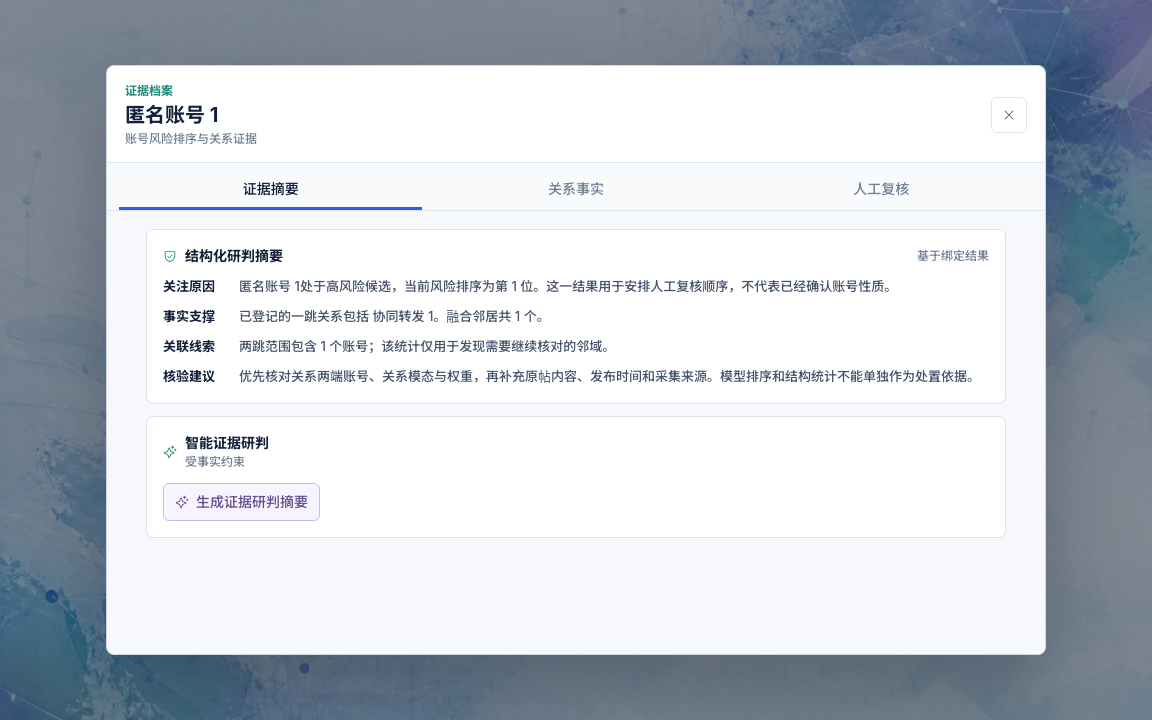
Scenario: EvidenceDossier › keeps deterministic evidence usable when generation fails
Click the button "生成证据研判摘要" at (242,502), box left=163, top=483, right=320, bottom=521
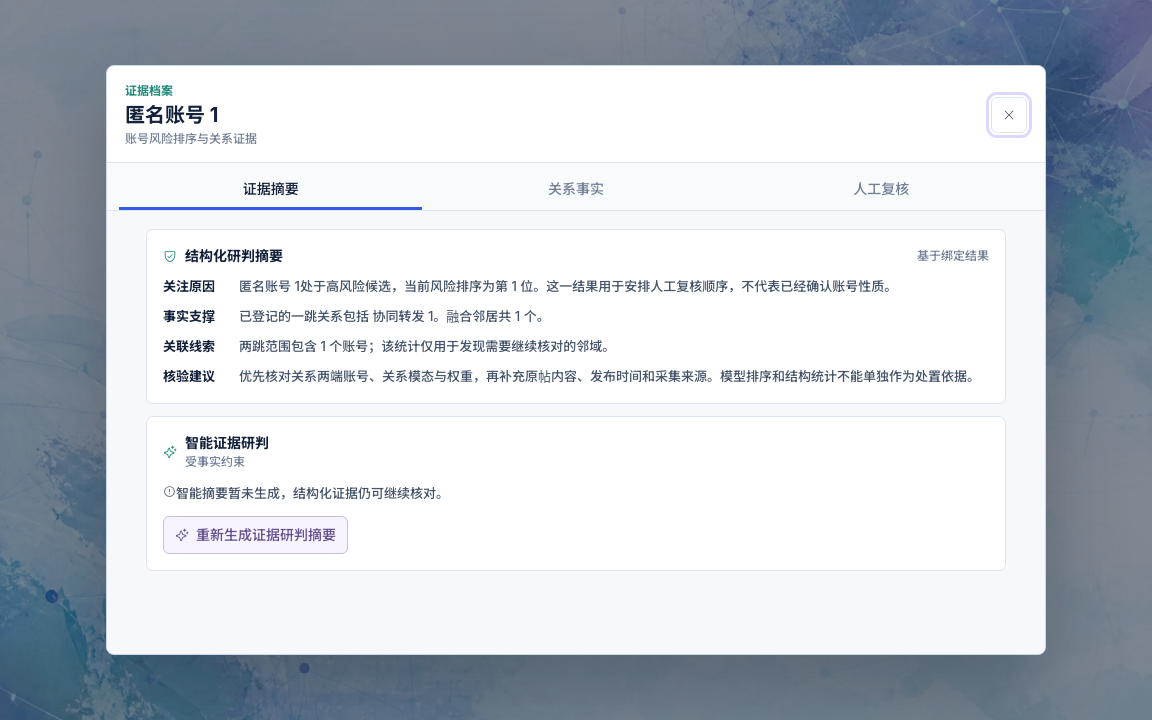
Expected: the text "结构化研判摘要" is shown, left=185, top=246, right=283, bottom=266
Result: the text "智能摘要暂未生成，结构化证据仍可继续核对。" is shown at left=163, top=485, right=449, bottom=501
Result: the button "重新生成证据研判摘要" is shown at left=163, top=516, right=348, bottom=554
